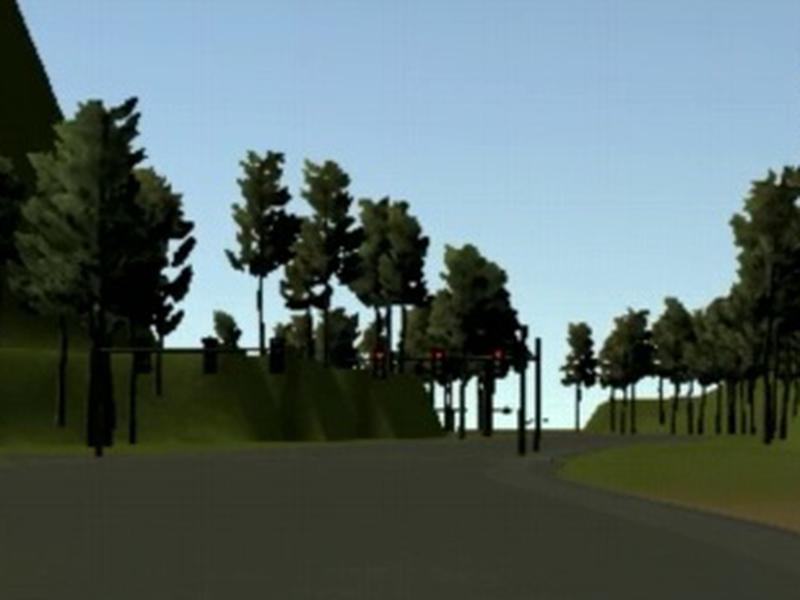Red: (373, 350, 386, 382), (491, 347, 503, 379), (432, 350, 444, 376)
